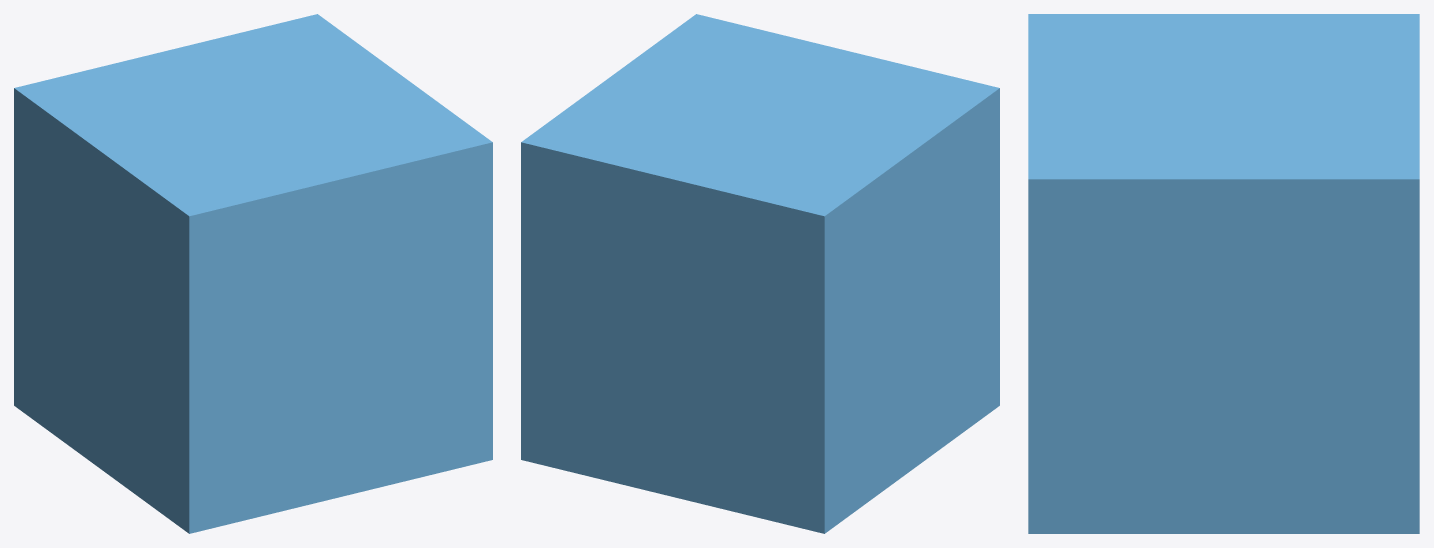
The model's file is morph.glb.
3 renders of one model, left to right at view 1: azimuth 30°, elevation 25°; view 2: azimuth 150°, elevation 25°; view 3: azimuth 270°, elevation 25°, orthographic. The views are drawn at different scales.
Visible parts, largest first — view 1: Cube; view 2: Cube; view 3: Cube.
Part boxes in pixels (x1=…): Cube: x1=14, y1=14, x2=492, y2=533; Cube: x1=521, y1=14, x2=999, y2=533; Cube: x1=1028, y1=14, x2=1419, y2=533.
Size of the model in its own units: 1.4 by 1.4 by 1.4.
